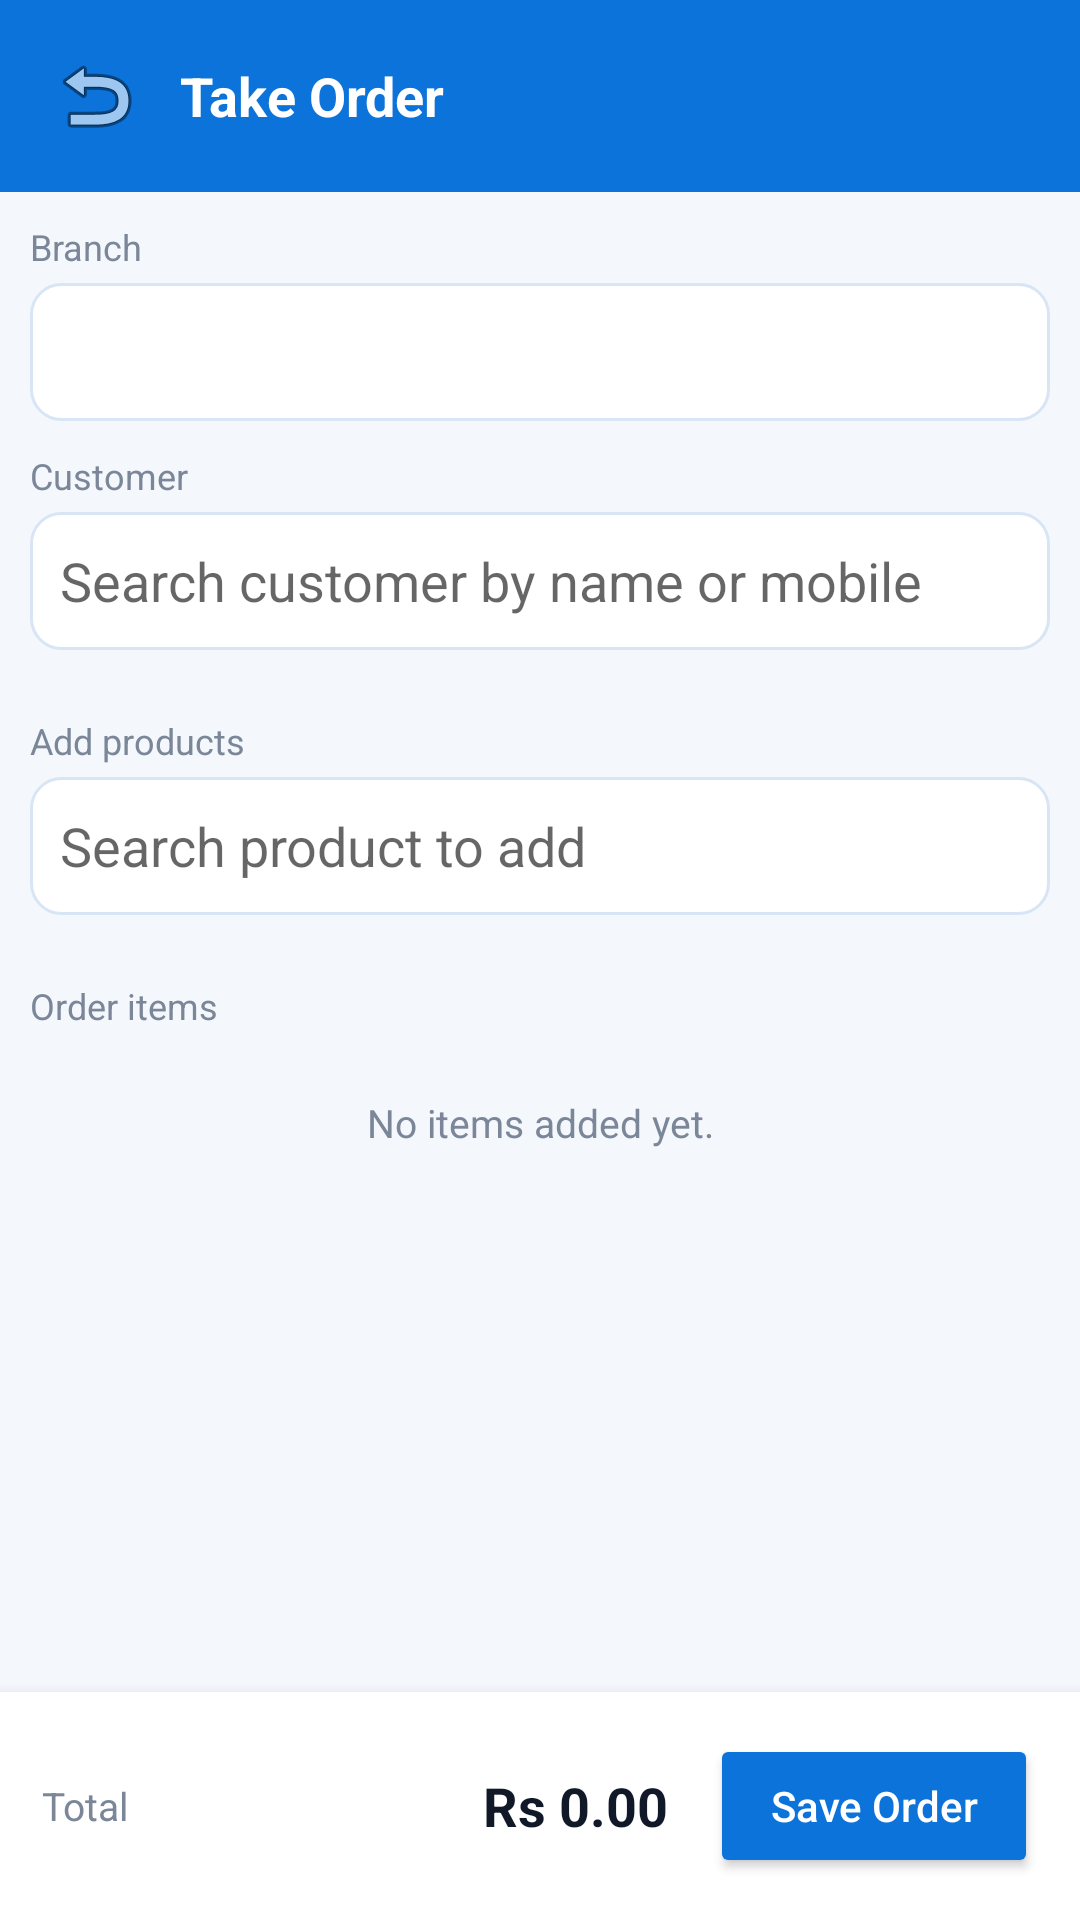

Screen size 1080 x 1920. Icon name, then its center in pixels as point (x, y):
Back: point (97, 96)
